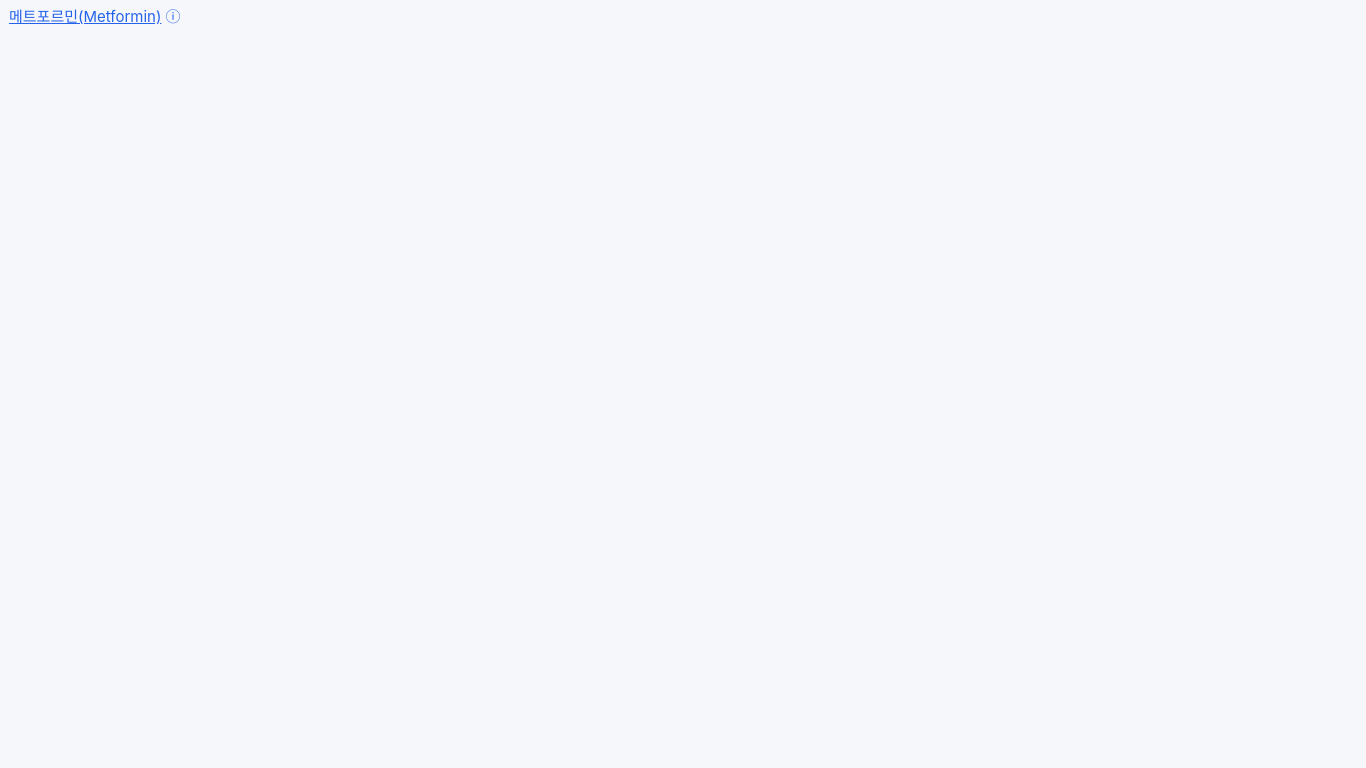
Test: MedicationDialog › renders an HTML-looking string as literal text, never as executed markup
This screenshot has width=1366, height=768.
Click the button "메트포르민(Metformin) ⓘ".
click(95, 17)  # box 0,0 -> 189,33
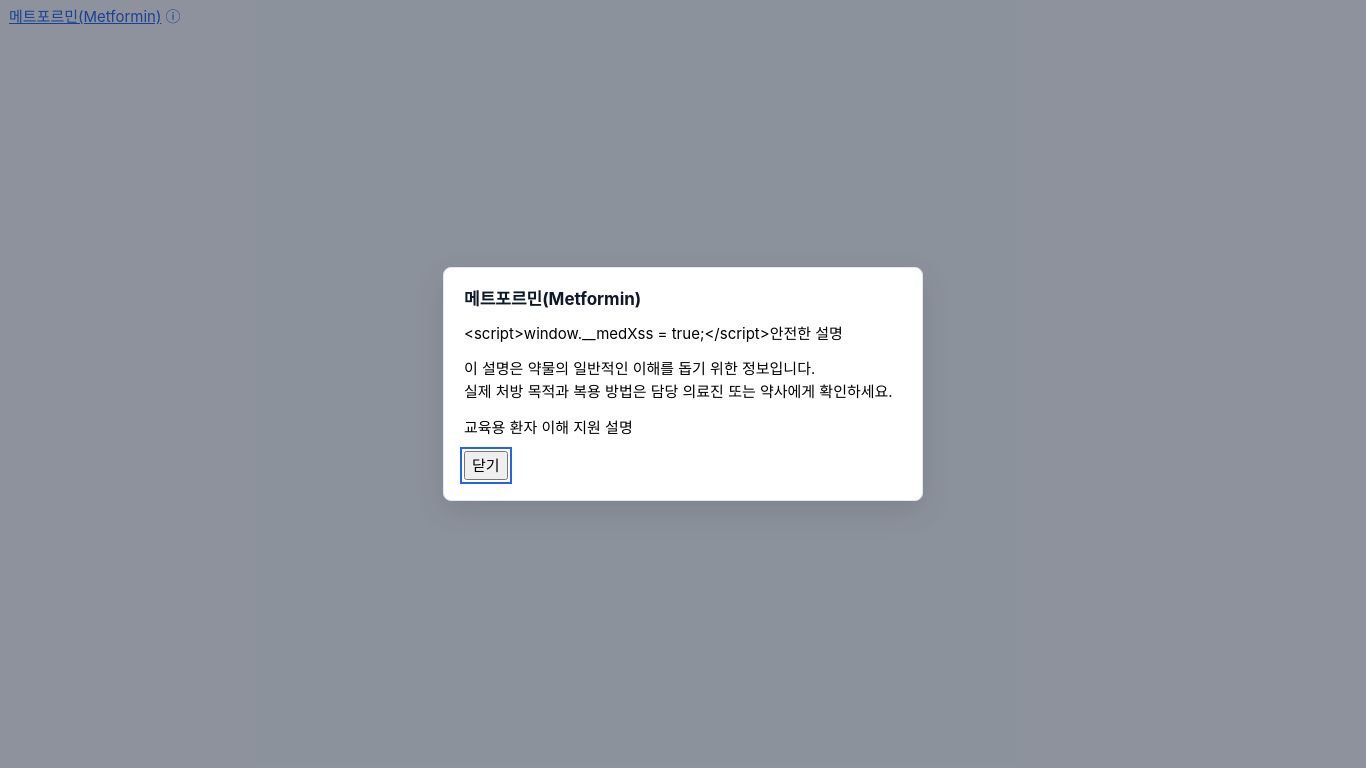
Expected: the text "<script>window.__medXss = true;</script>안전한 설명" is shown, 464,322 -> 902,345
